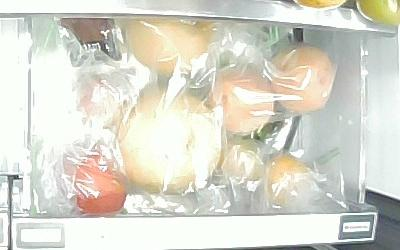peach_vinyl: (266, 44, 337, 111), (207, 66, 276, 134)
pear_vinyl: (115, 90, 222, 194), (127, 16, 216, 79)
tangerine_vinyl: (71, 153, 128, 216), (266, 154, 313, 205)
